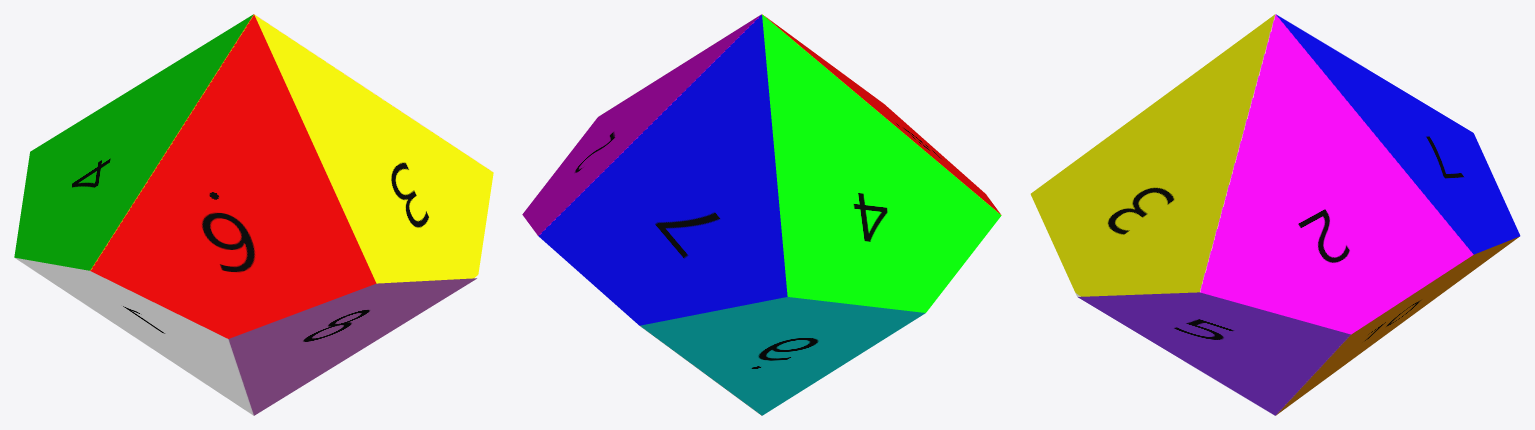
The picture shows the model from 3 angles, left to right: view 1: azimuth 30°, elevation 25°; view 2: azimuth 150°, elevation 25°; view 3: azimuth 270°, elevation 25°; orthographic projection.
Visible parts, largest first — view 1: 円錐; view 2: 円錐; view 3: 円錐.
Part boxes in pixels (x1,y1,x2,y2): 円錐: [14, 14, 493, 415]; 円錐: [522, 14, 1001, 415]; 円錐: [1030, 14, 1520, 415].
Size of the model in its own units: 1.9 by 1.81 by 2.
Materials: 1 (1 with a texture image).
